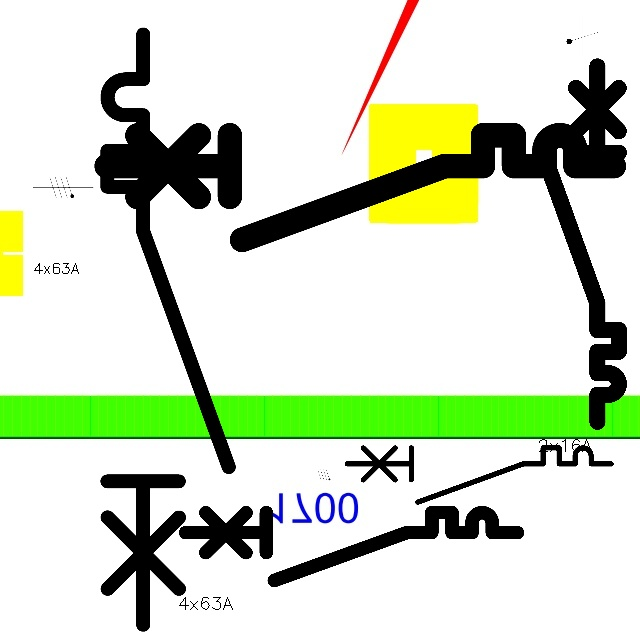interruptor_termomagnetico: (92, 19, 244, 640), (93, 122, 627, 252), (537, 57, 628, 431), (177, 504, 526, 589), (340, 441, 618, 509)
